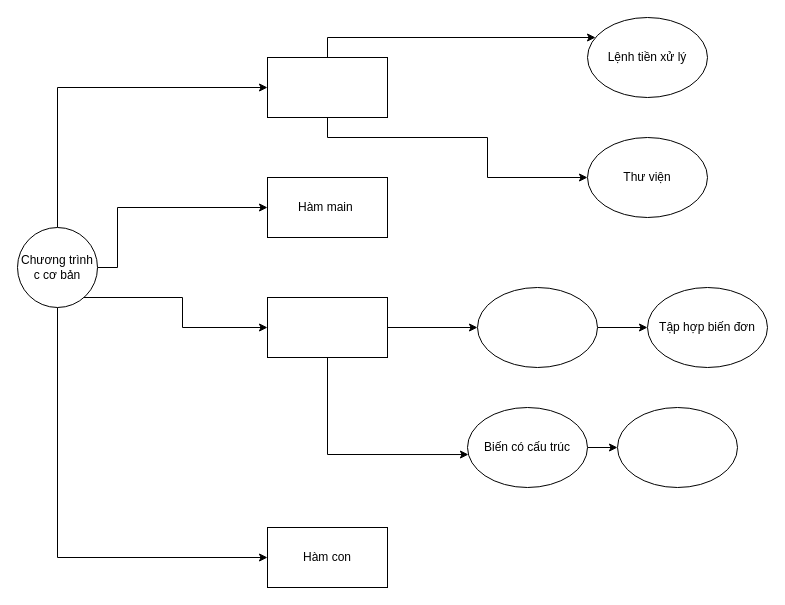
Image size: 785x605. Some labels were removed from this diagram. The centre of each missing label's shape, as x and y in pixels:
Biến: the point at 327,327
Biến đơn: the point at 537,327
Tiền xử lý: the point at 327,87
Tập hợp biến có cấu trúc: the point at 677,447
